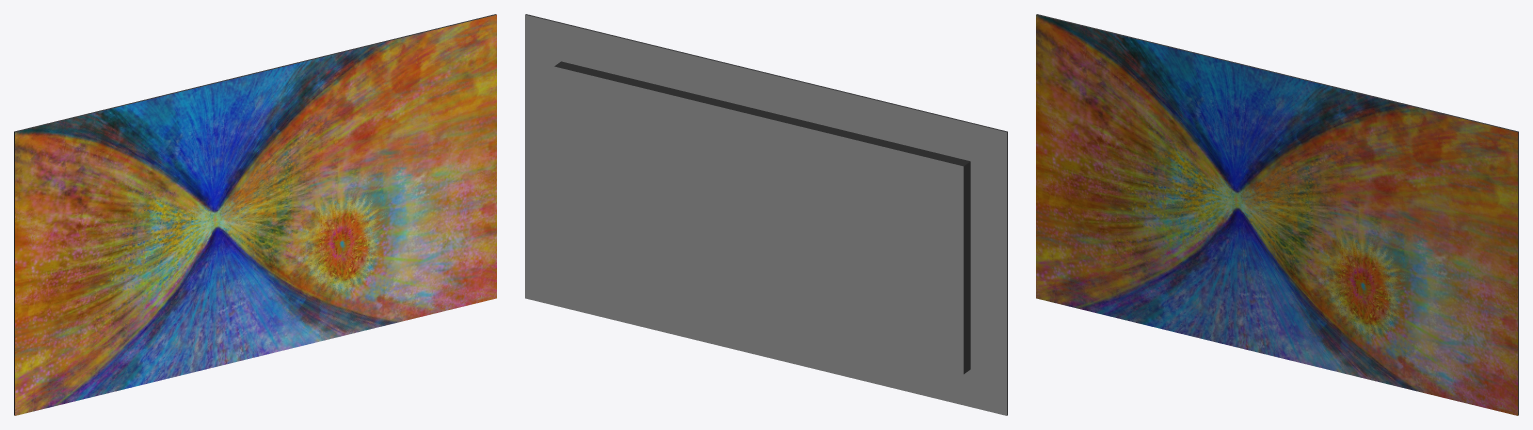
Rendered from hz015_moyen_dibond.glb.
3 renders of one model, left to right at view 1: azimuth 30°, elevation 25°; view 2: azimuth 150°, elevation 25°; view 3: azimuth 330°, elevation 25°, orthographic.
Parts seen in each view (by area): view 1: hz015_moyen_dibond; view 2: hz015_moyen_dibond; view 3: hz015_moyen_dibond.
Part boxes in pixels (x1,y1,x2,y2): hz015_moyen_dibond: (14,14,496,415); hz015_moyen_dibond: (525,14,1007,415); hz015_moyen_dibond: (1036,14,1518,415).
Bounding box in the file's own units: 0.8 × 0.45 × 0.023.
4 materials, 1 textured.
